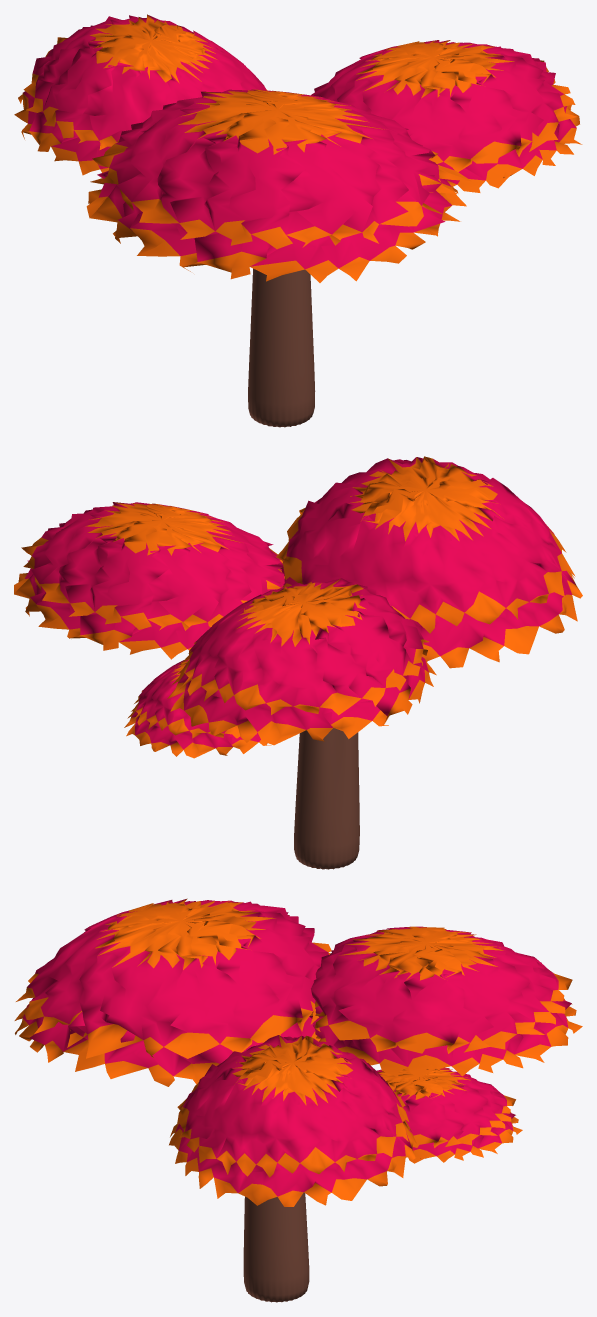
File: Arbol_Rosa.fbx
3 views of the same model, one above another, from view 1: azimuth 30°, elevation 25°; view 2: azimuth 150°, elevation 25°; view 3: azimuth 270°, elevation 25° (orthographic). The views are drawn at different scales.
Parts seen in each view (by area): view 1: Arbol_Rorsa; view 2: Arbol_Rorsa; view 3: Arbol_Rorsa.
Boxes of the visible parts, x1,y1,x2,y2 form: Arbol_Rorsa: [14, 14, 582, 427]; Arbol_Rorsa: [14, 456, 582, 869]; Arbol_Rorsa: [14, 898, 582, 1302].
Size of the model in its own units: 1662 by 1122 by 1666.
